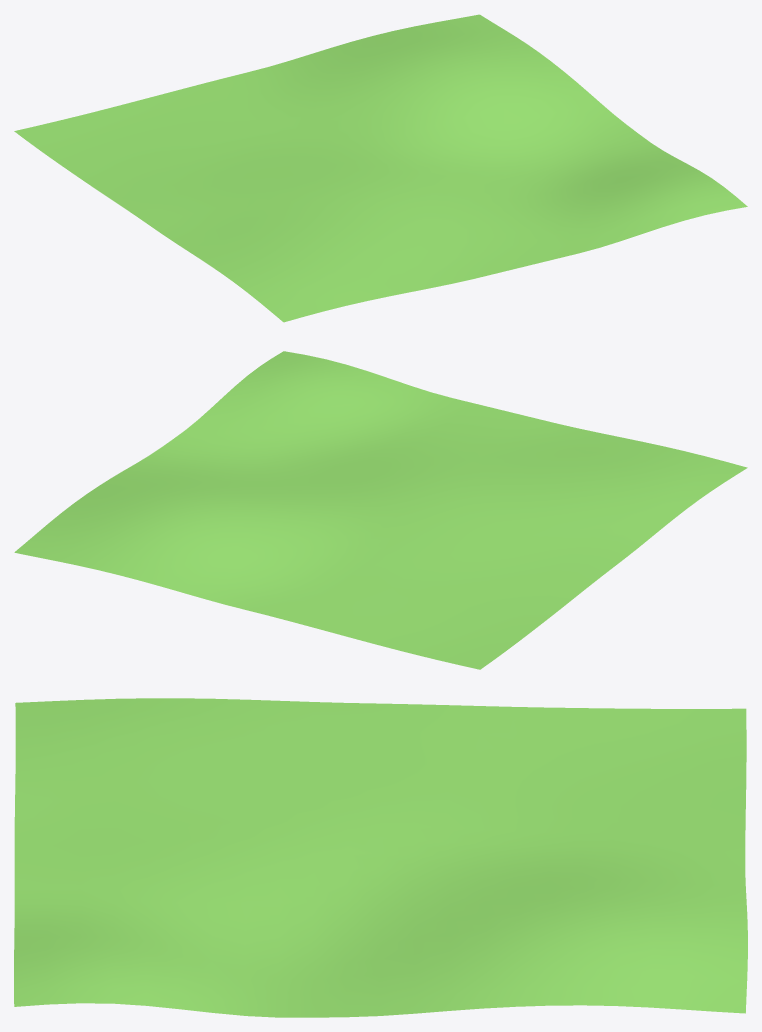
3 views of the same model, one above another, from view 1: azimuth 30°, elevation 25°; view 2: azimuth 150°, elevation 25°; view 3: azimuth 270°, elevation 25° (orthographic). The views are drawn at different scales.
Parts seen in each view (by area): view 1: Plane; view 2: Plane; view 3: Plane.
Part boxes in pixels (<box>): Plane: <box>14,14,747,322</box>; Plane: <box>14,351,747,669</box>; Plane: <box>14,698,747,1017</box>.
Bounding box in the file's own units: 100 × 4.59 × 100.
